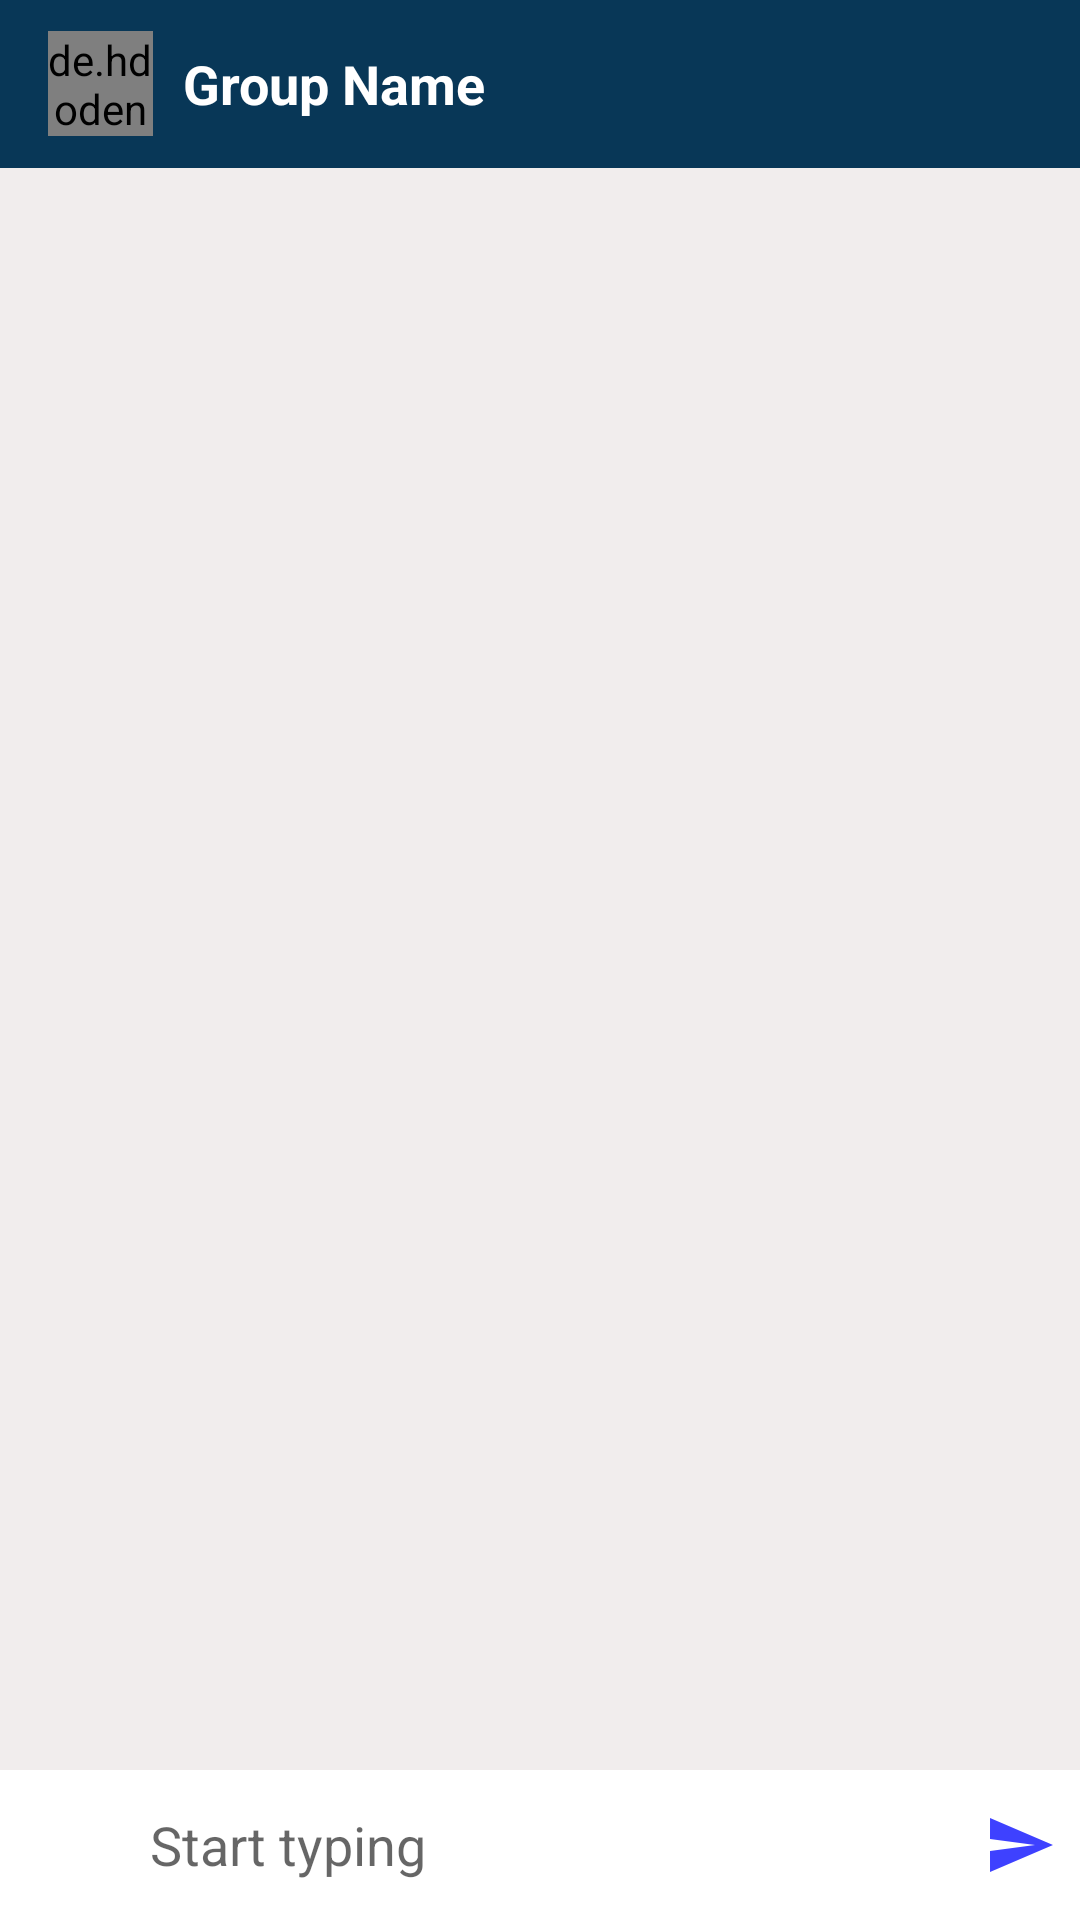

Screen size 1080w x 1920h. Icon name, then its box in pixels as (x1, y1, x2, y2):
send: (990, 1818, 1053, 1872)
